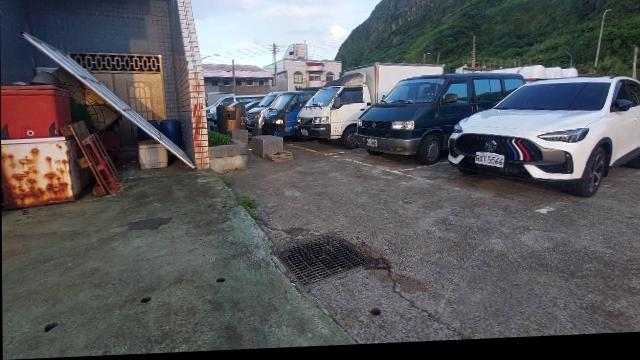pollute: (2, 67, 131, 211), (143, 121, 184, 151), (135, 139, 171, 170)
